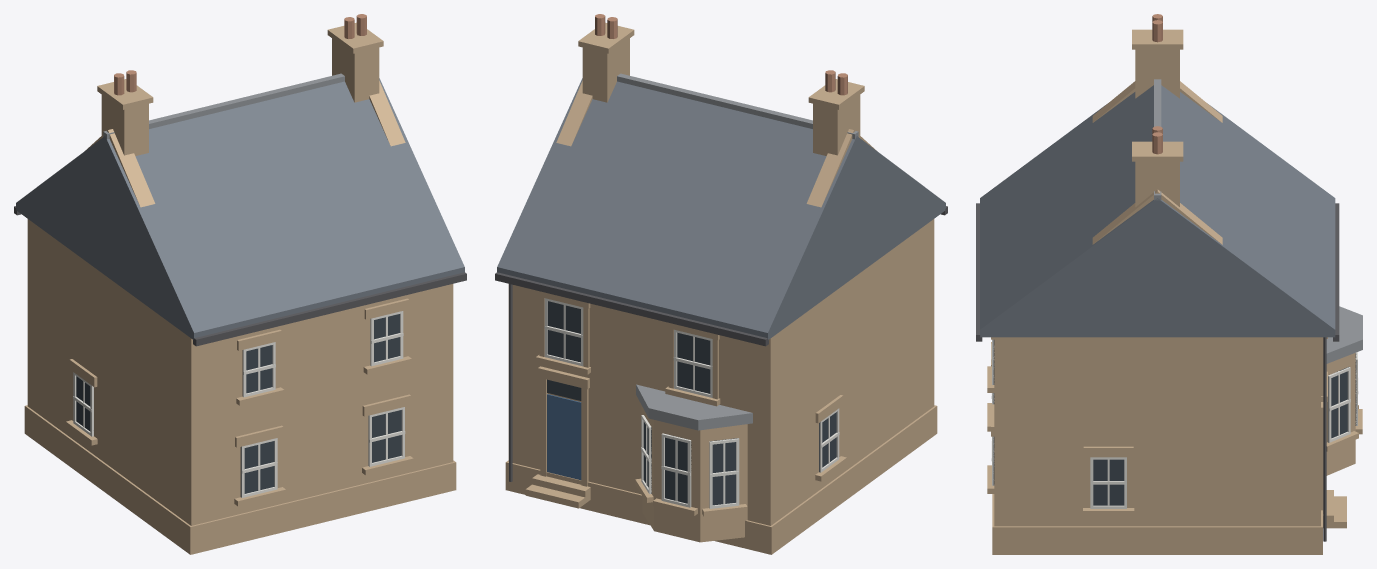
File: villa.glb
3 views of the same model, side by side, from view 1: azimuth 30°, elevation 25°; view 2: azimuth 150°, elevation 25°; view 3: azimuth 270°, elevation 25° (orthographic).
Parts seen in each view (by area): view 1: villa; view 2: villa; view 3: villa.
Boxes of the visible parts, <box> form: villa: <box>14,14,466,554</box>; villa: <box>495,14,947,554</box>; villa: <box>976,14,1362,554</box>.
Size of the model in its own units: 7.74 by 11.22 by 9.48.
